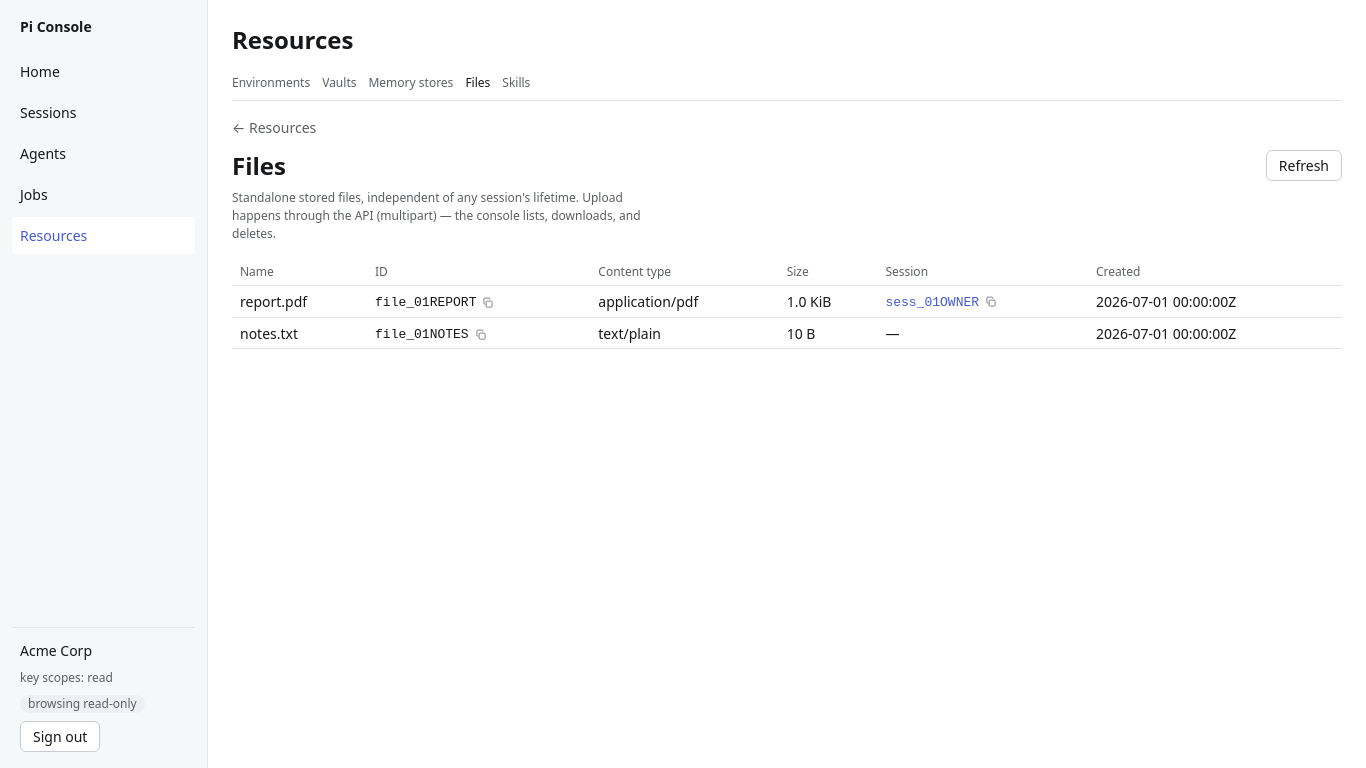
Test case: files (§9.5) › read-only keys see delete disabled with the reason (C§6.1)
The width and height of the screenshot is (1366, 768).
What coordinates should you click on to do the following:
click the text "notes.txt"
I would click on:
 (300, 333)
Its box is [232,317,367,349].
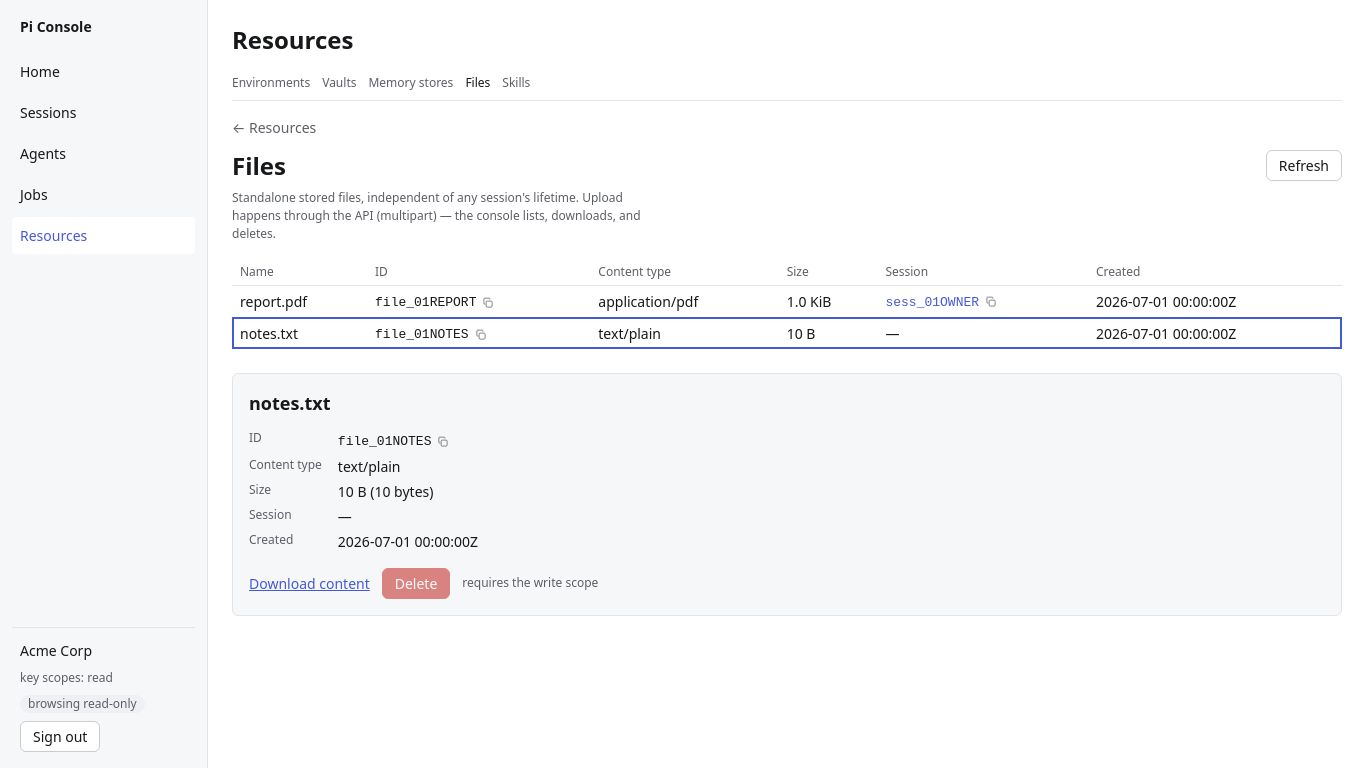
Now the button "Delete" is disabled, box [382,568,450,599]
Now the text "requires the write scope" is shown, box [462,574,598,592]
